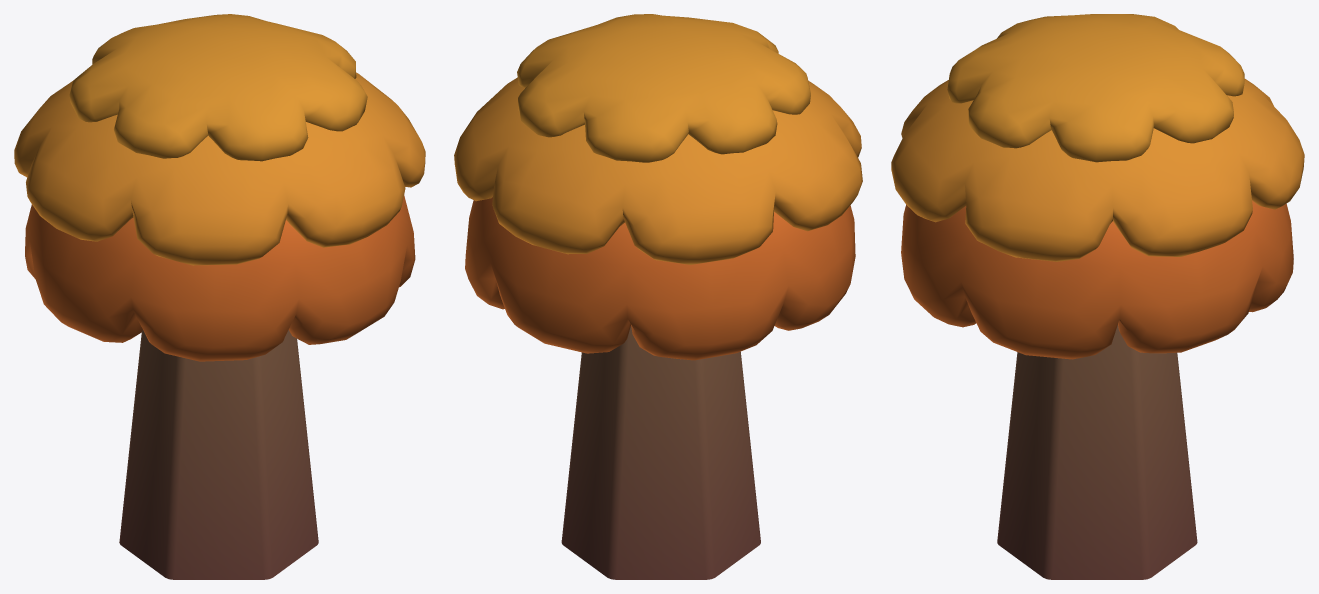
File: StyleTree3.fbx
3 views of the same model, side by side, from view 1: azimuth 30°, elevation 25°; view 2: azimuth 150°, elevation 25°; view 3: azimuth 270°, elevation 25° (orthographic).
Visible parts, largest first — view 1: Circle.001; view 2: Circle.001; view 3: Circle.001.
Part boxes in pixels (bbox=[...]): Circle.001: bbox=[14, 14, 425, 579]; Circle.001: bbox=[454, 14, 862, 579]; Circle.001: bbox=[891, 14, 1304, 579].
Bounding box in the file's own units: 434 × 580 × 434.
